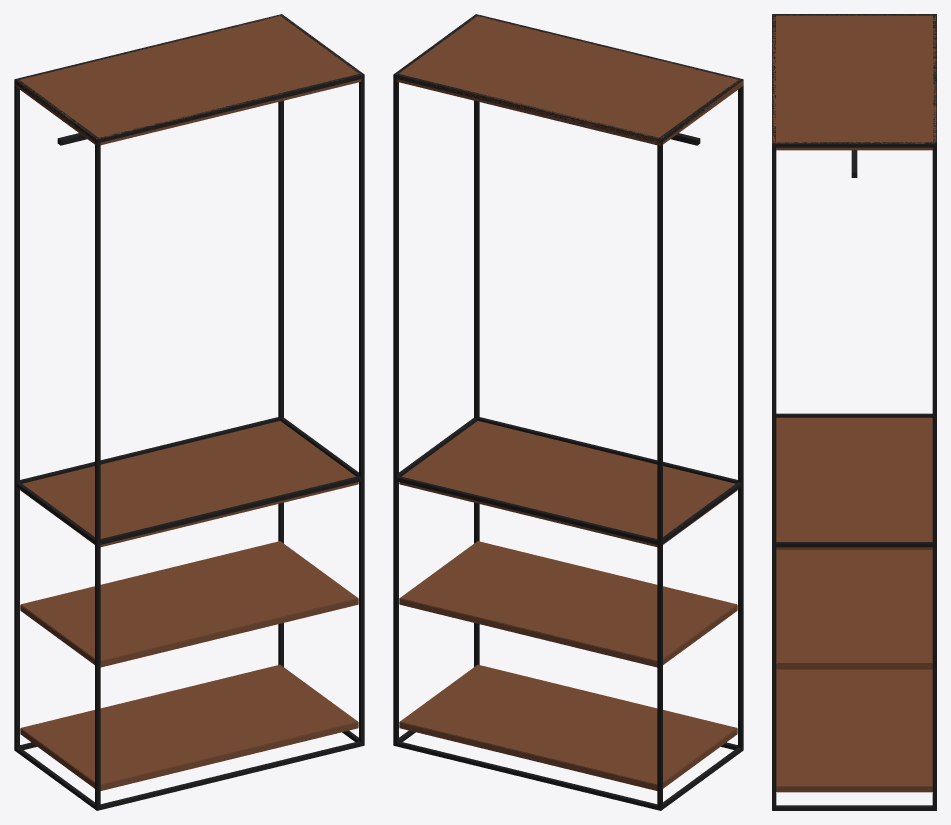
The model's file is model-shelves.glb.
3 views of the same model, side by side, from view 1: azimuth 30°, elevation 25°; view 2: azimuth 150°, elevation 25°; view 3: azimuth 270°, elevation 25° (orthographic).
Visible parts, largest first — view 1: poel-modular-wardrobe; view 2: poel-modular-wardrobe; view 3: poel-modular-wardrobe.
Part boxes in pixels (x1,y1,x2,y2): poel-modular-wardrobe: [14, 14, 364, 810]; poel-modular-wardrobe: [393, 14, 743, 810]; poel-modular-wardrobe: [772, 14, 936, 810].
Bounding box in the file's own units: 0.84 × 2.01 × 0.45.
